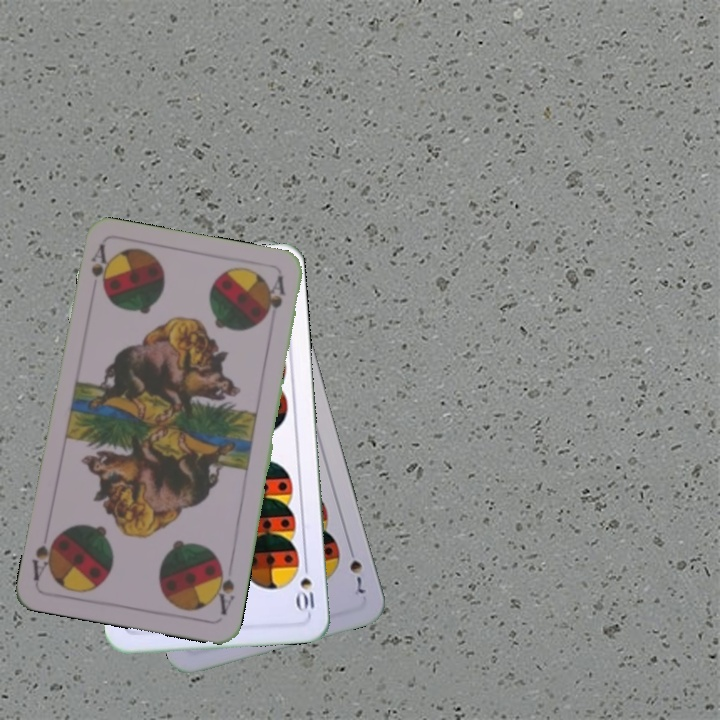S10: (295, 557, 317, 616)
S7: (344, 541, 367, 597)
SA: (209, 558, 238, 618), (87, 241, 110, 291)
